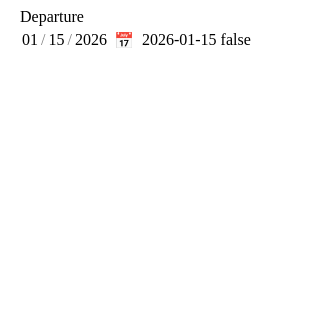
Test: DatePicker › reuses the styled Calendar chrome inside the popover
Step 1. Click the button named "Open calendar" → click(124, 40), box [110,26,138,54]
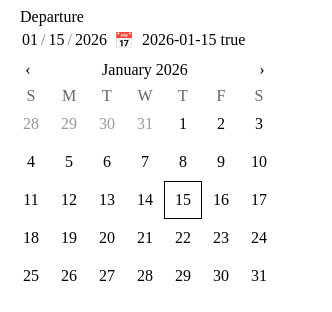
Expected: the header with class "sve-calendar__header" is shown, [12,54,278,86]
Expected: the table with class "sve-calendar__grid" is shown, [12,86,278,295]
